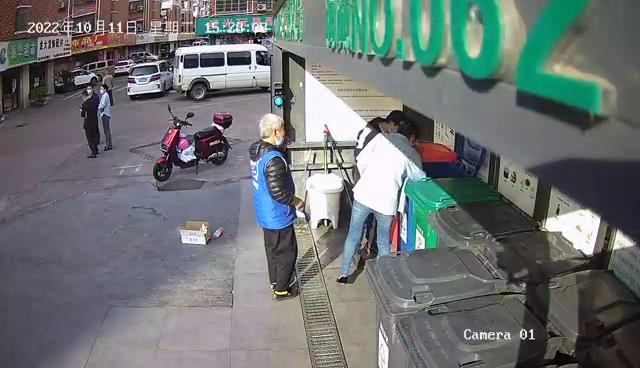person: (333, 105, 429, 287)
worker: (245, 111, 308, 302)
zhizhipin: (175, 216, 212, 246)
